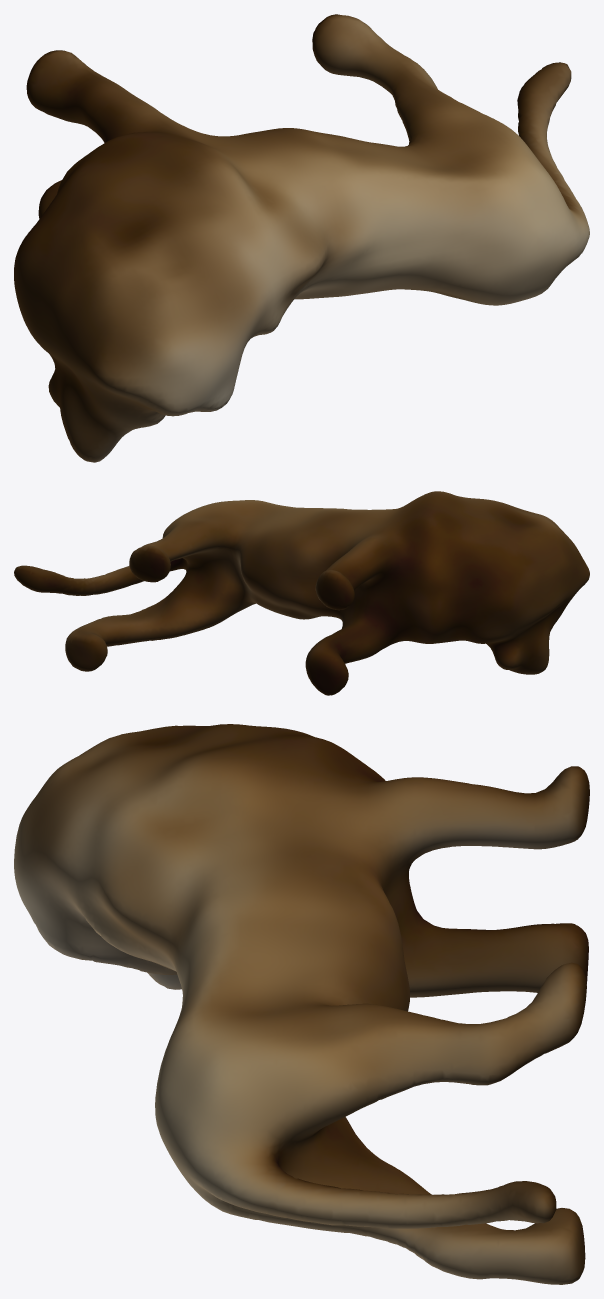
Rendered from lion.glb.
3 views of the same model, one above another, from view 1: azimuth 30°, elevation 25°; view 2: azimuth 150°, elevation 25°; view 3: azimuth 270°, elevation 25° (orthographic). The views are drawn at different scales.
Bounding box in the file's own units: 0.9986 × 0.3658 × 0.625.
